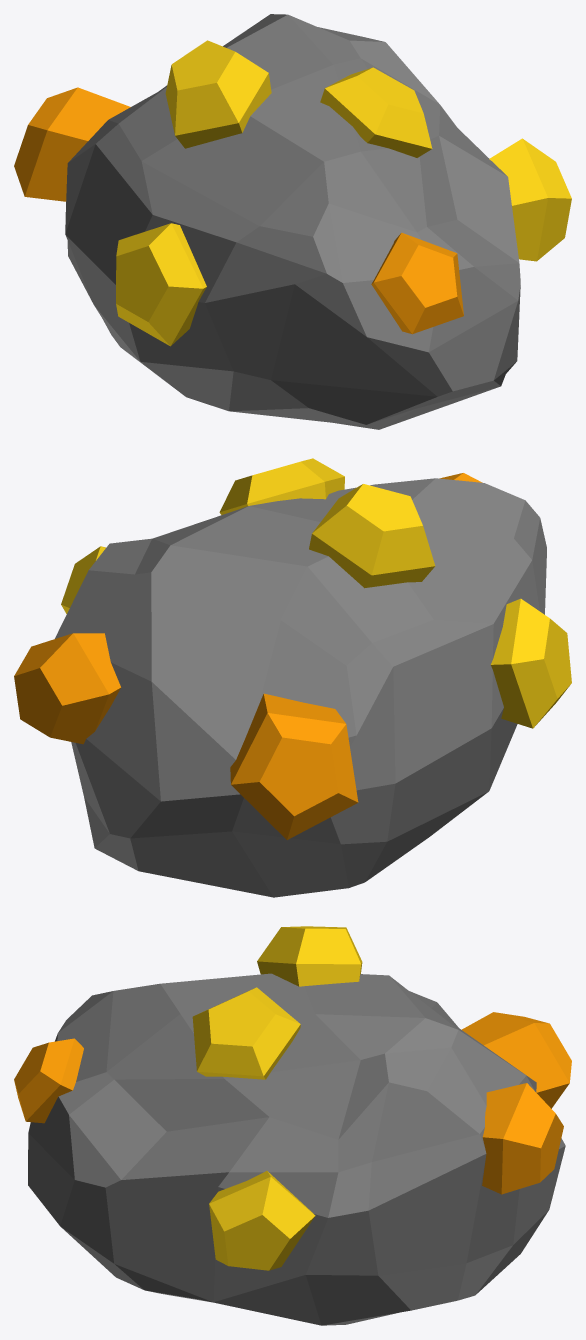
Rendered from MineralNode_06_C.fbx.
3 views of the same model, one above another, from view 1: azimuth 30°, elevation 25°; view 2: azimuth 150°, elevation 25°; view 3: azimuth 270°, elevation 25° (orthographic). The views are drawn at different scales.
Parts seen in each view (by area): view 1: MineralNode_06_C; view 2: MineralNode_06_C; view 3: MineralNode_06_C.
Boxes of the visible parts, left/top/right/bottom form: MineralNode_06_C: left=14, top=14, right=571, bottom=429; MineralNode_06_C: left=14, top=458, right=571, bottom=897; MineralNode_06_C: left=14, top=926, right=571, bottom=1325.
Bounding box in the file's own units: 91.51 × 67.1 × 107.
